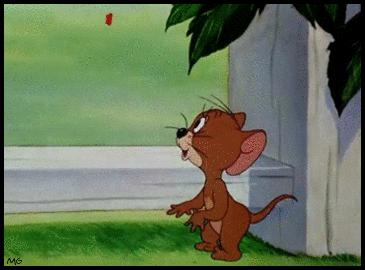jerry: (162, 92, 299, 264)
